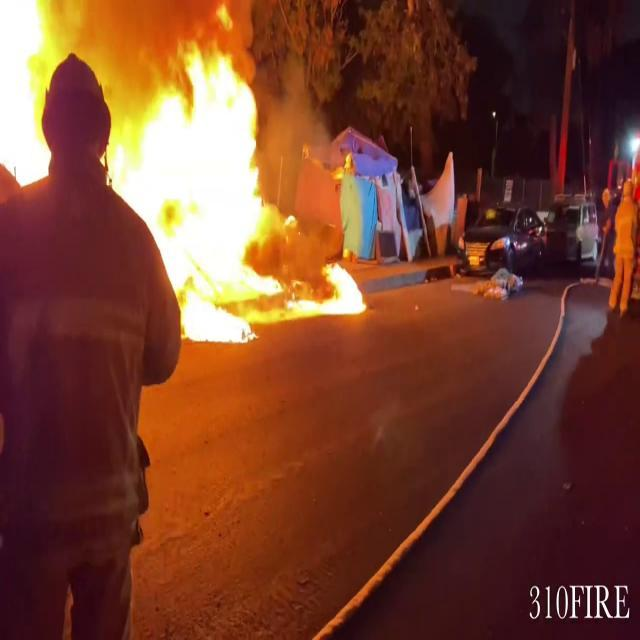Fire: (104, 9, 364, 338), (0, 1, 63, 199)
